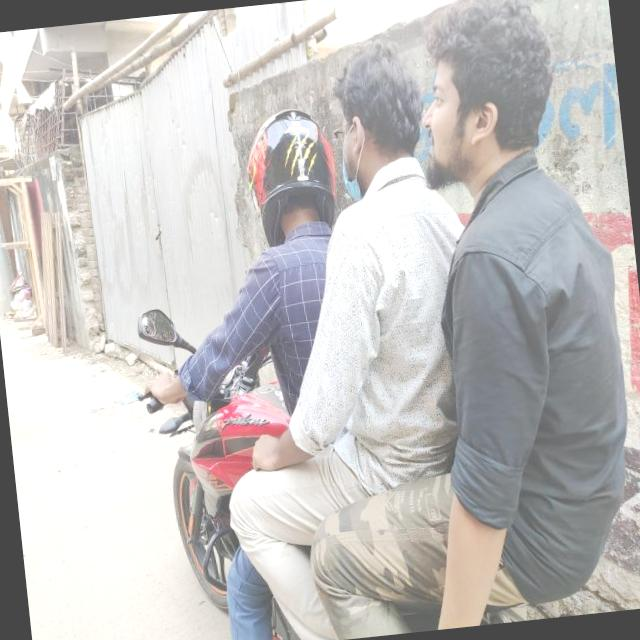motorcycle: (129, 254, 598, 640)
person: (386, 0, 640, 628), (268, 27, 493, 640), (158, 93, 391, 640)
rider_region: (91, 0, 640, 640)
